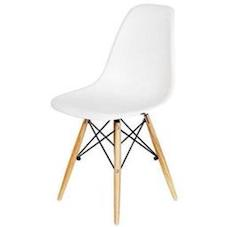chair: (46, 5, 191, 221)
